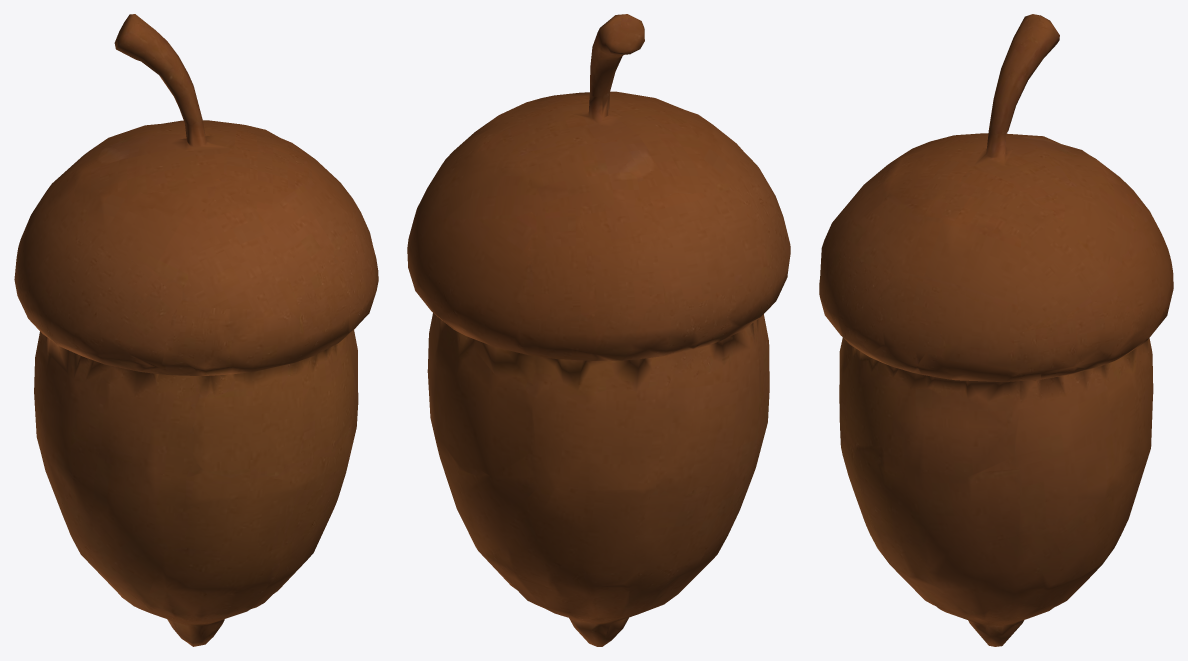
The model's file is pipsGoldenAcorn.a851976d.glb.
The picture shows the model from 3 angles, left to right: view 1: azimuth 30°, elevation 25°; view 2: azimuth 150°, elevation 25°; view 3: azimuth 270°, elevation 25°; orthographic projection. The views are drawn at different scales.
Size of the model in its own units: 1 by 1.9 by 1.
1 material, 1 textured.
